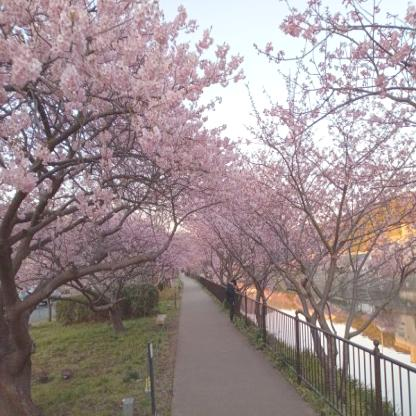KawazuSakura: (1, 0, 232, 309), (265, 0, 416, 298), (173, 153, 325, 283)
